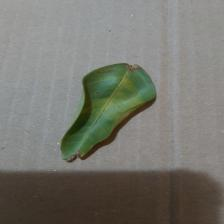greening: (56, 58, 160, 165)
